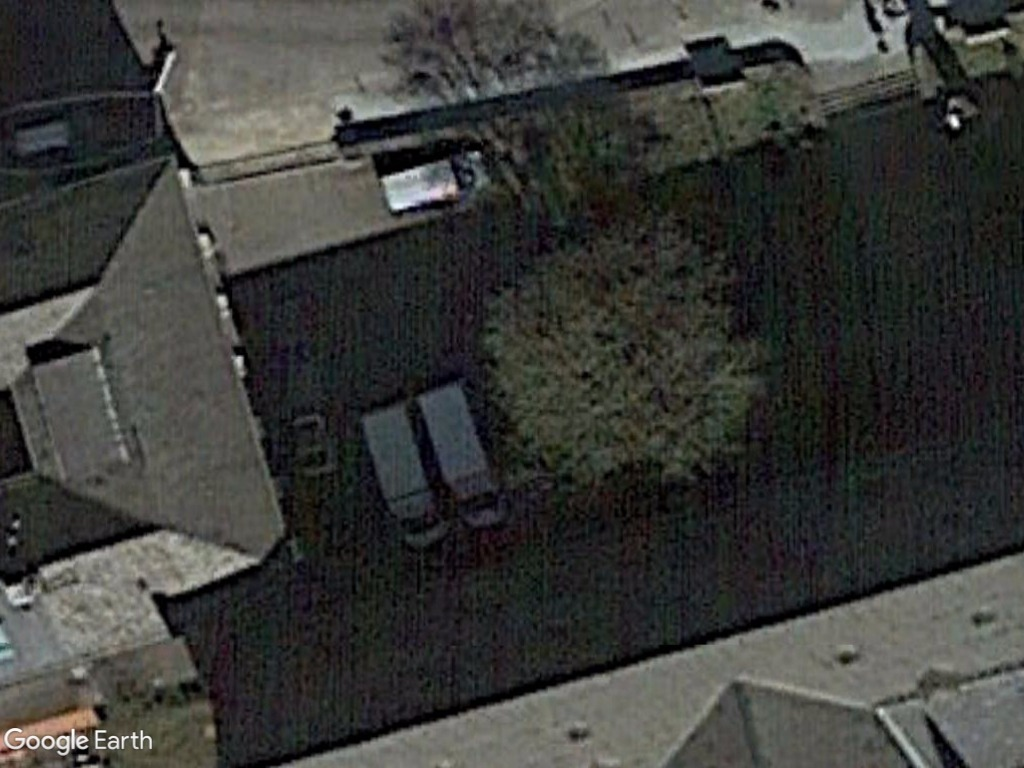van: (412, 378, 516, 535), (357, 397, 457, 552)
